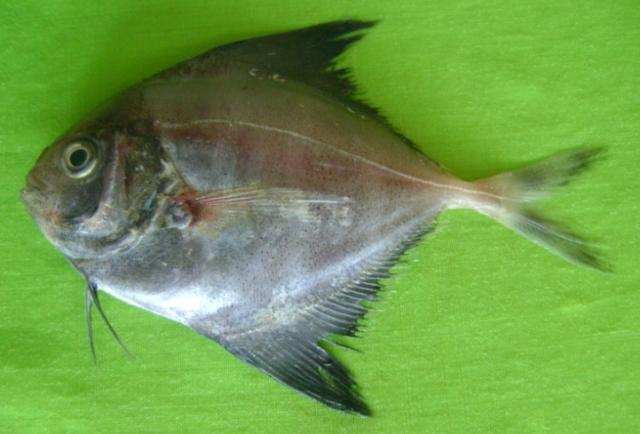Mulut: (4, 148, 72, 232)
Sirip Anal: (318, 194, 457, 310)
Sirip Dada: (140, 169, 362, 253)
Sirip Ekor: (448, 125, 632, 299)
Sirip Perut: (188, 302, 384, 426)
Sirip Punggung: (193, 6, 434, 162)
